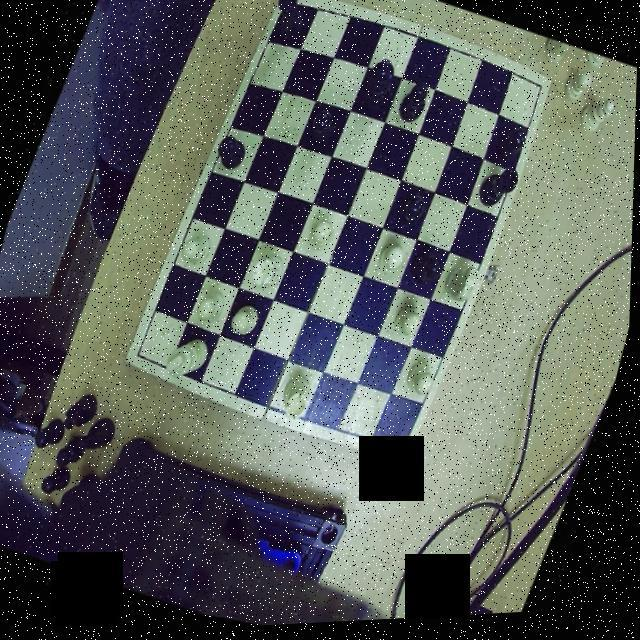chess-table-corners: (388, 432, 418, 465), (128, 342, 157, 372), (525, 76, 552, 104), (273, 0, 298, 24)
